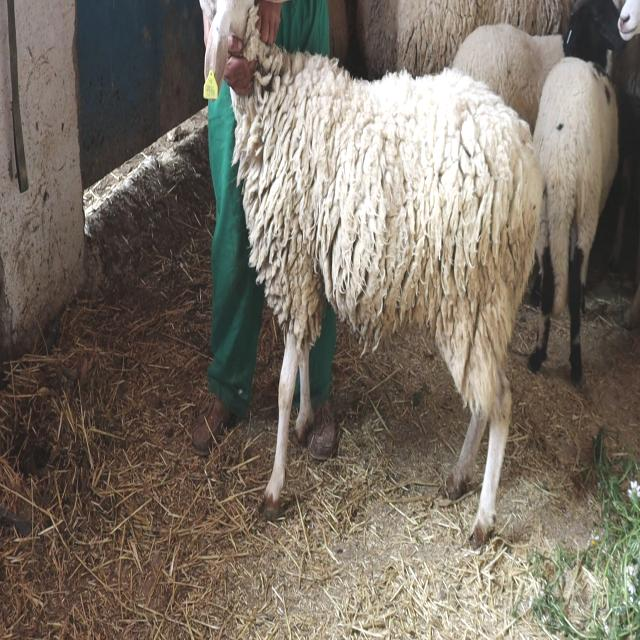Score_4: (200, 0, 544, 539)
